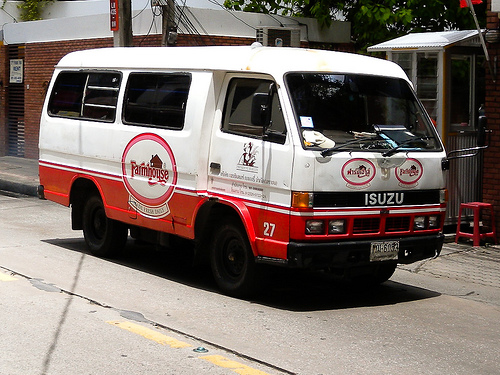van: (36, 42, 448, 295)
